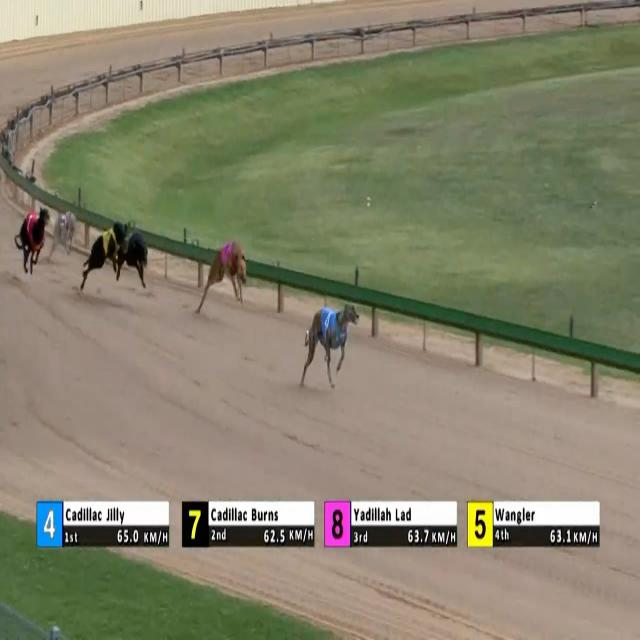dog_eight: (219, 238, 241, 278)
dog_five: (98, 225, 124, 263)
dog_four: (319, 306, 344, 354)
dog_one: (21, 213, 43, 249)
dog_seven: (125, 226, 154, 278)
dog_two: (58, 211, 78, 244)
rail: (1, 2, 638, 373)
